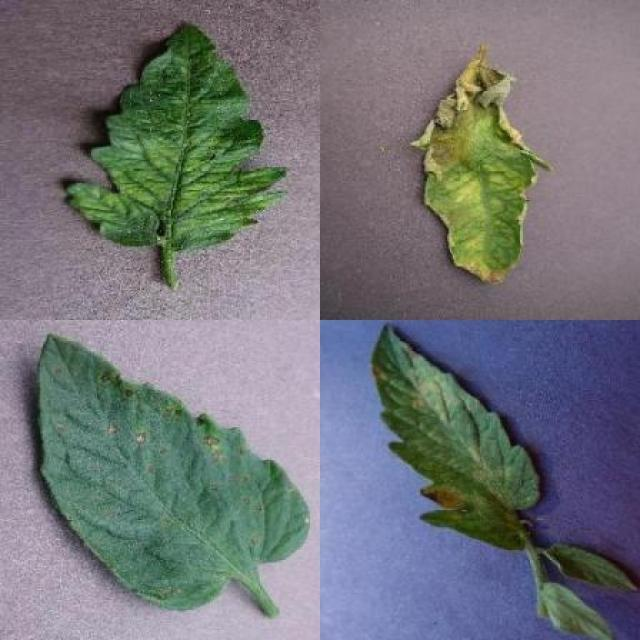Late Blight: (408, 62, 552, 288)
Leaf Mold: (369, 324, 541, 550)
Mosaic Virus: (64, 20, 290, 254)
Septoria: (38, 332, 313, 612)
